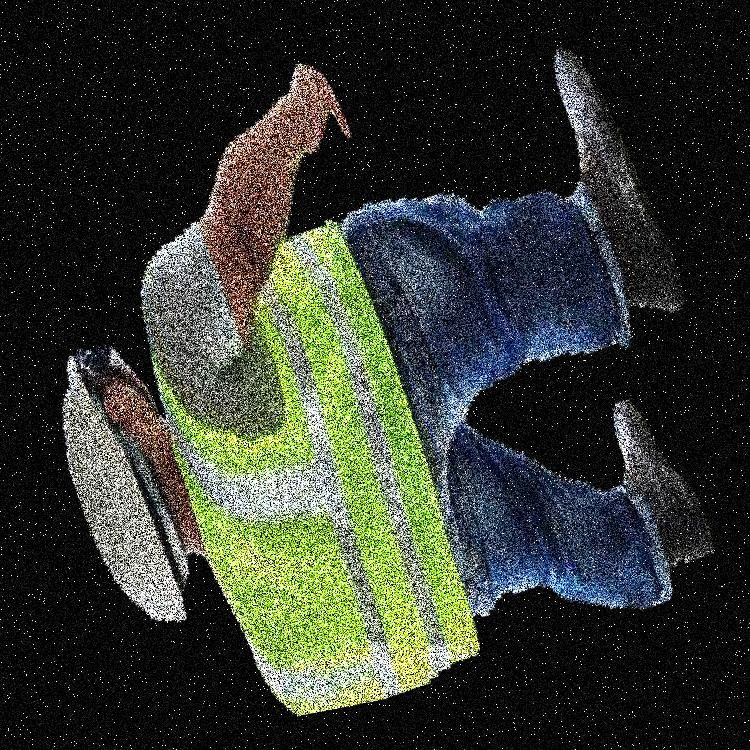Pessoa: (161, 0, 576, 749)
